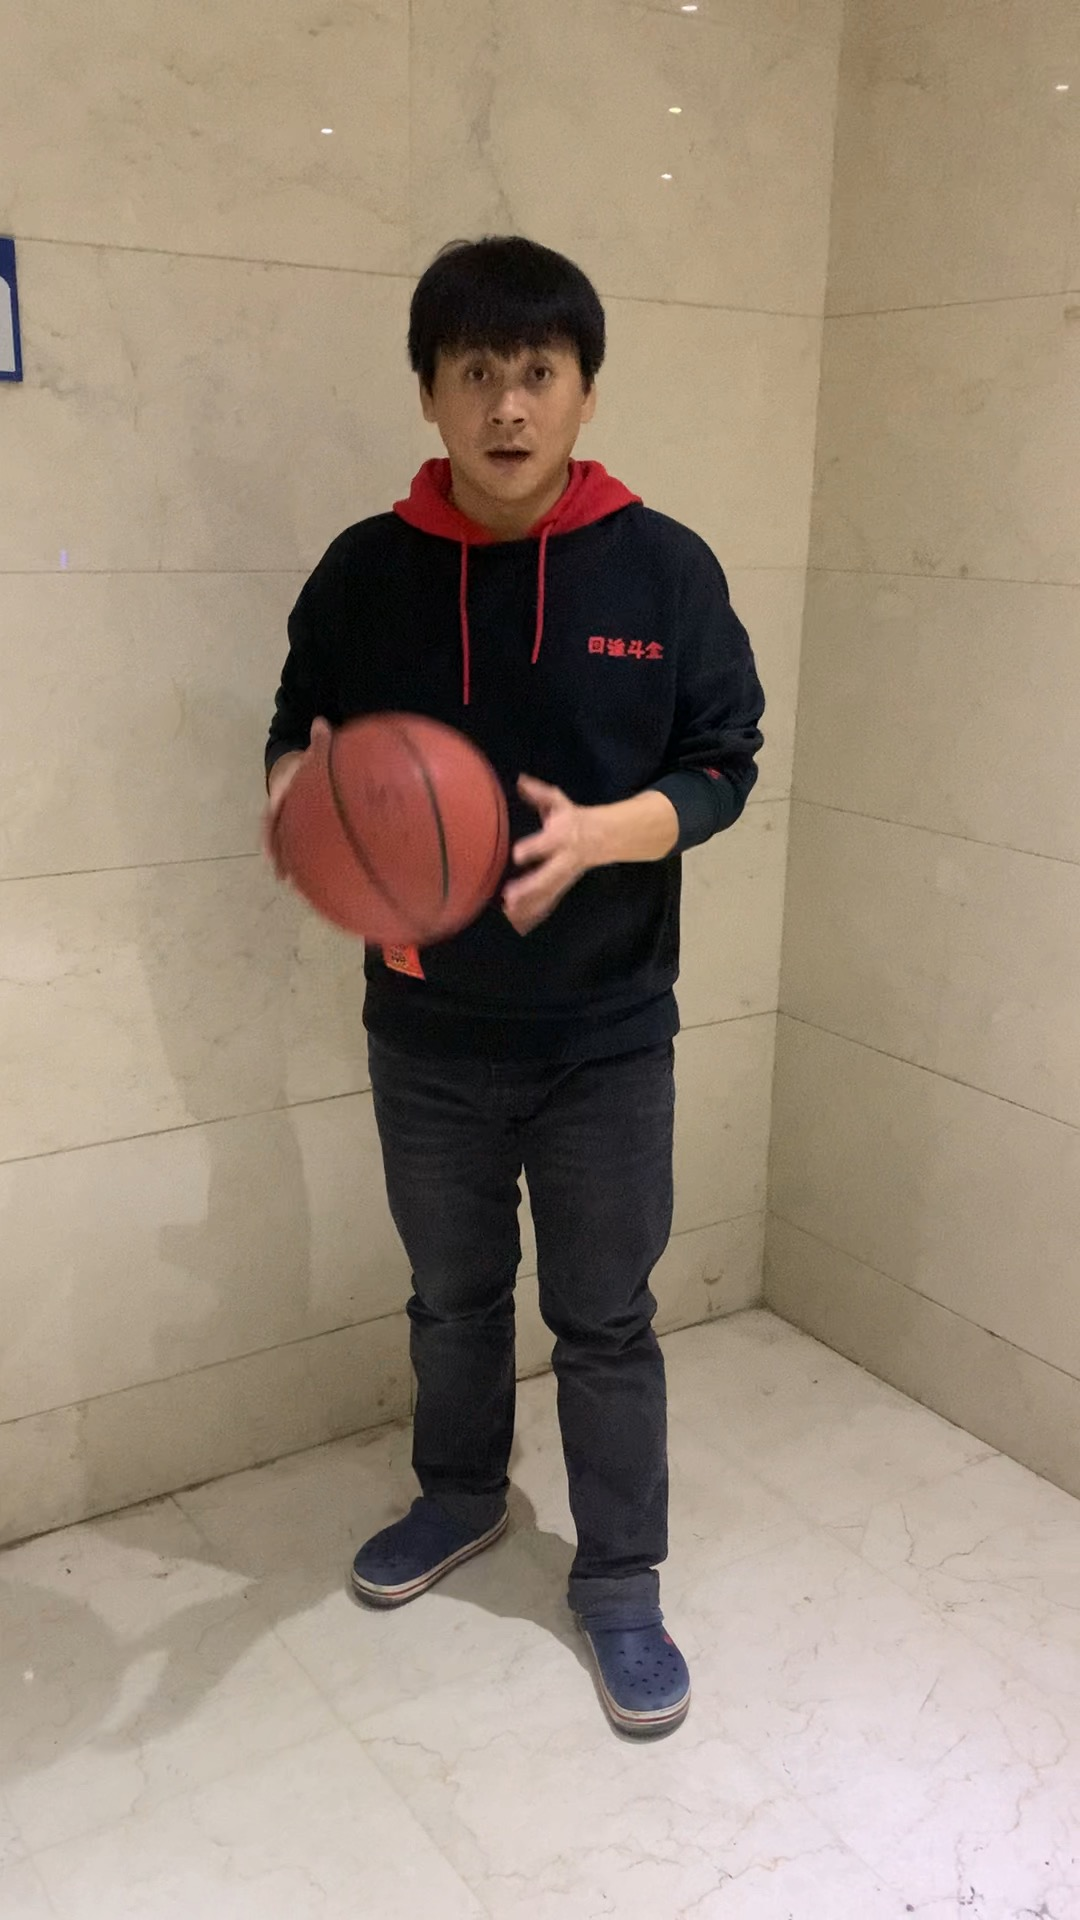ball: (281, 712, 513, 951)
